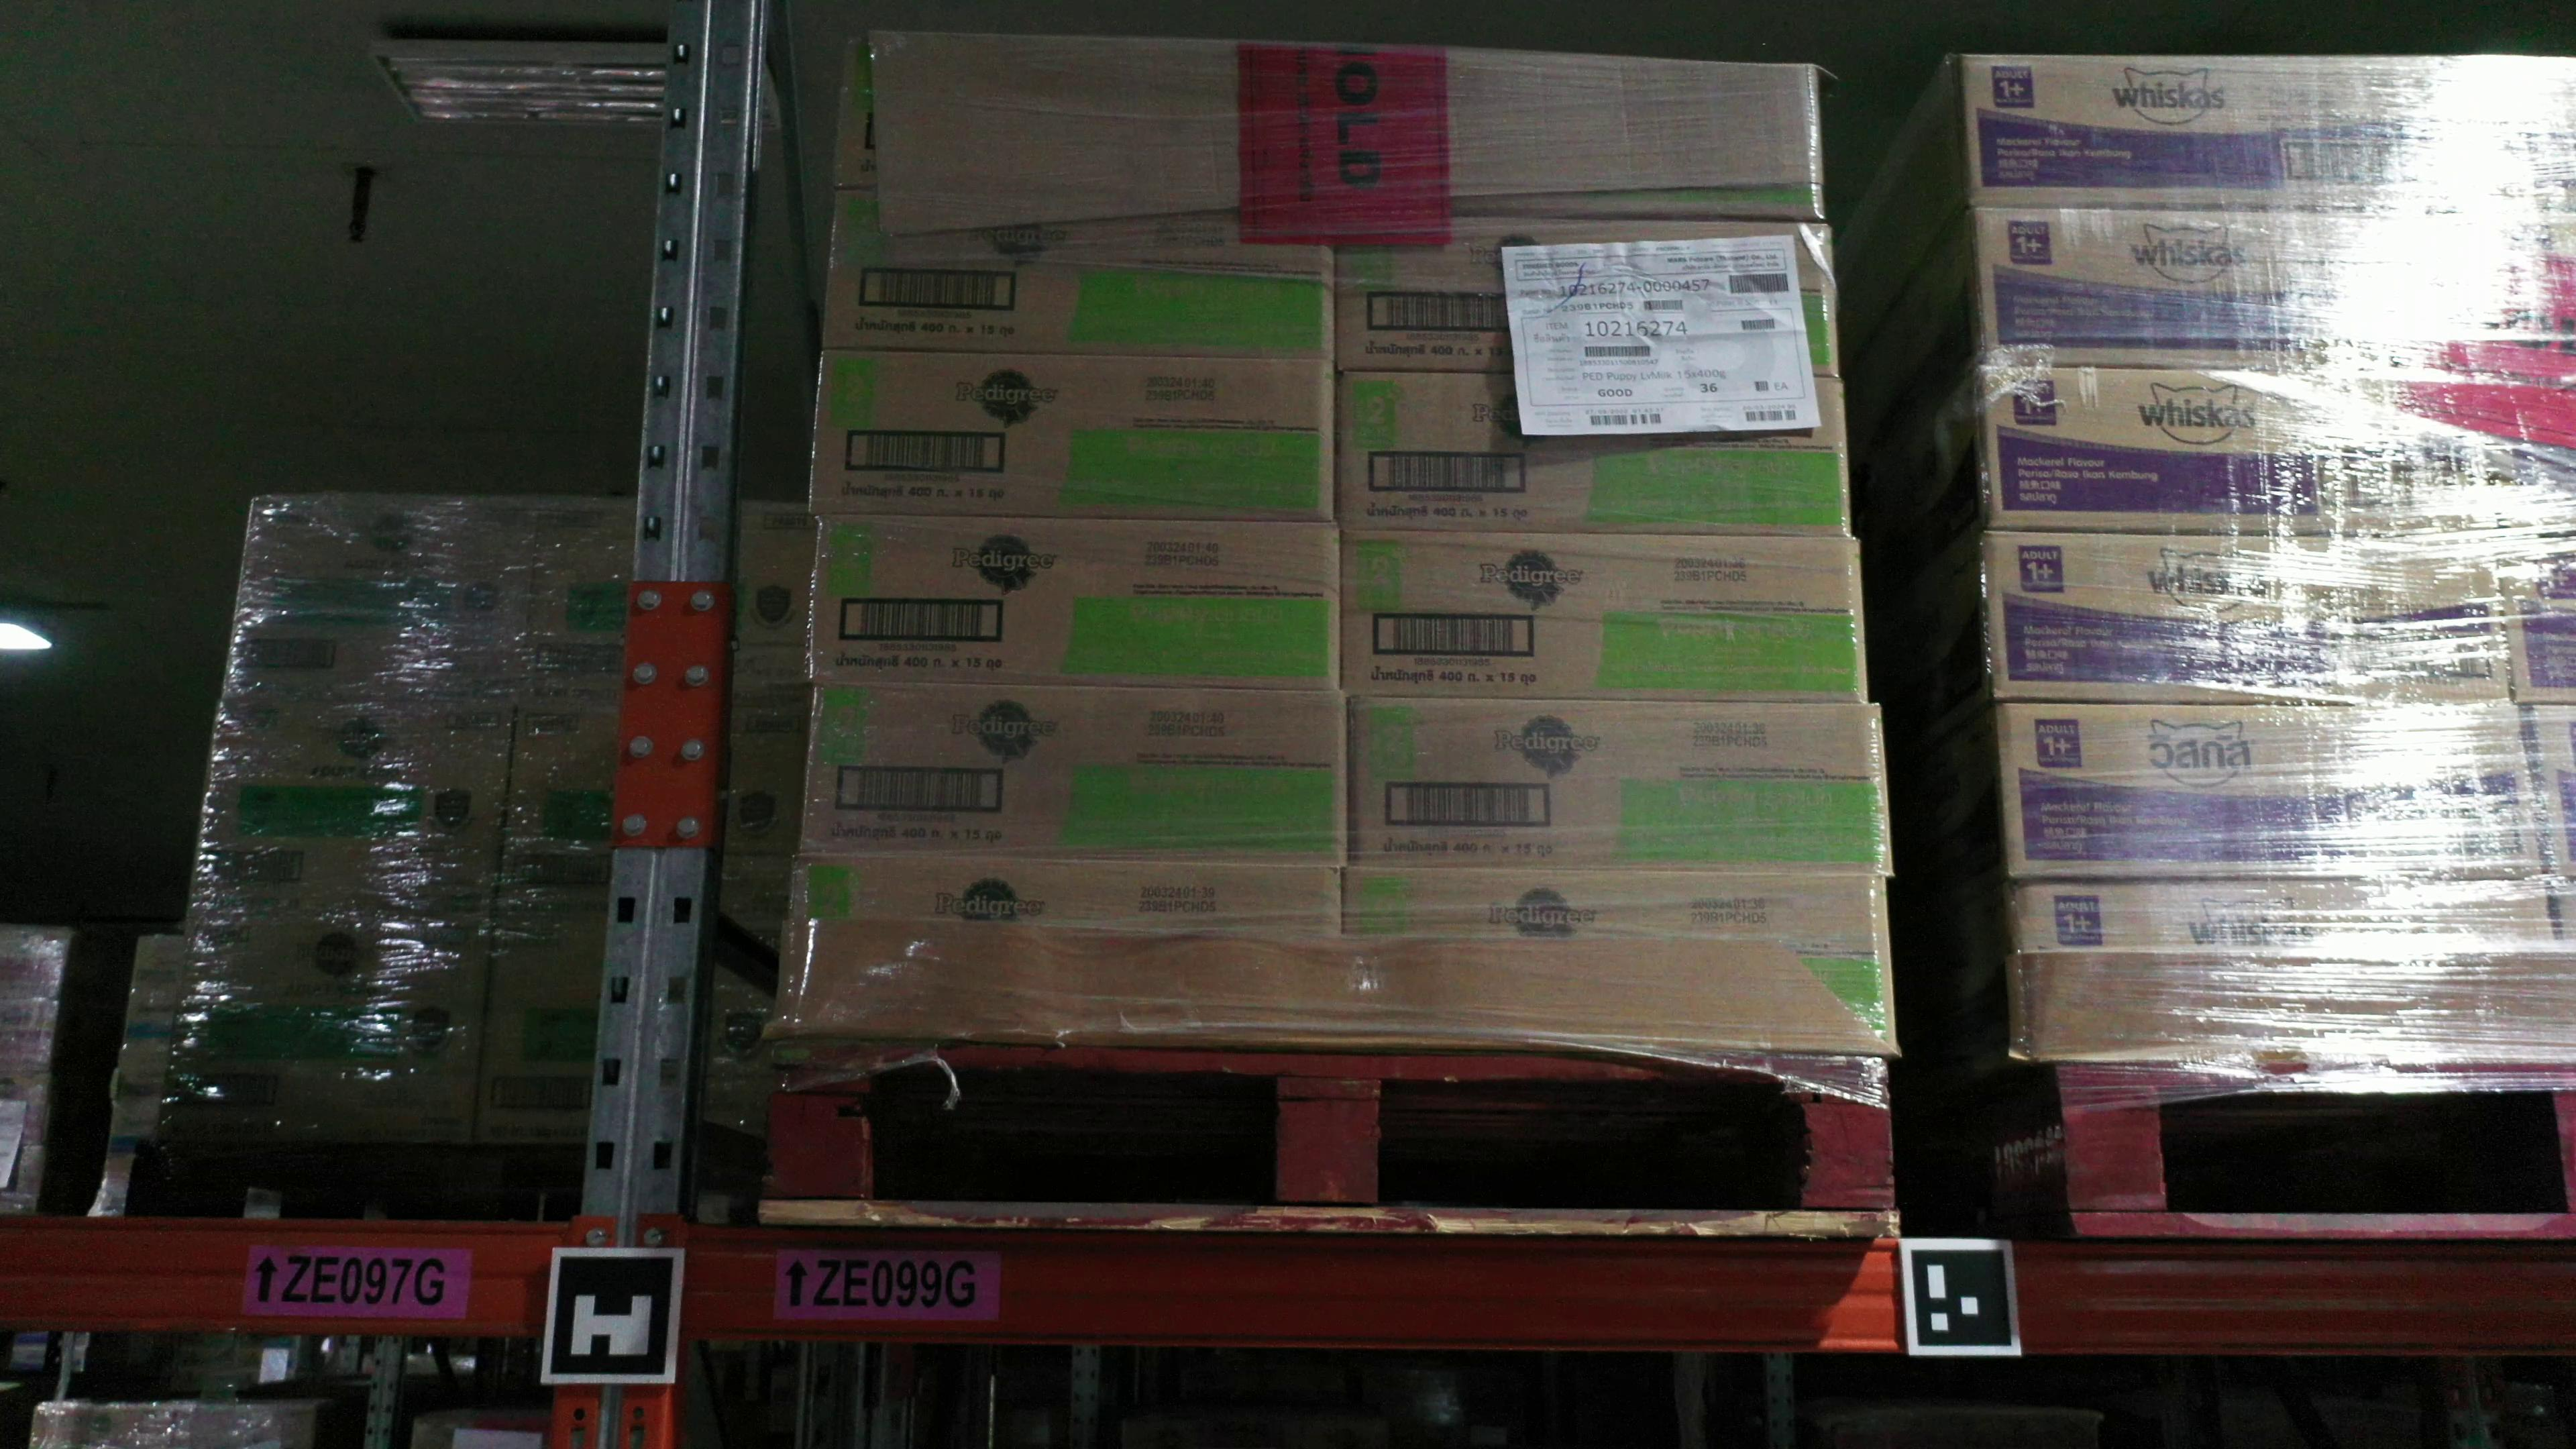-: (800, 679, 1346, 870), (1345, 865, 1898, 1051), (1350, 692, 1895, 876), (1992, 701, 2548, 879), (1345, 525, 1870, 704), (1983, 527, 2518, 702), (812, 515, 1341, 688), (810, 349, 1330, 524), (823, 188, 1338, 363), (1338, 366, 1847, 536), (1982, 363, 2491, 531), (1338, 214, 1840, 380), (1974, 205, 2477, 370), (1964, 53, 2465, 209), (789, 853, 1345, 947), (2010, 879, 2558, 961), (2447, 53, 2576, 211), (2459, 209, 2576, 370), (2466, 363, 2576, 527), (2491, 525, 2576, 704)
box: (156, 899, 497, 1143), (189, 685, 515, 911), (494, 701, 809, 934), (472, 911, 782, 1146), (225, 492, 540, 702), (517, 497, 819, 715)
